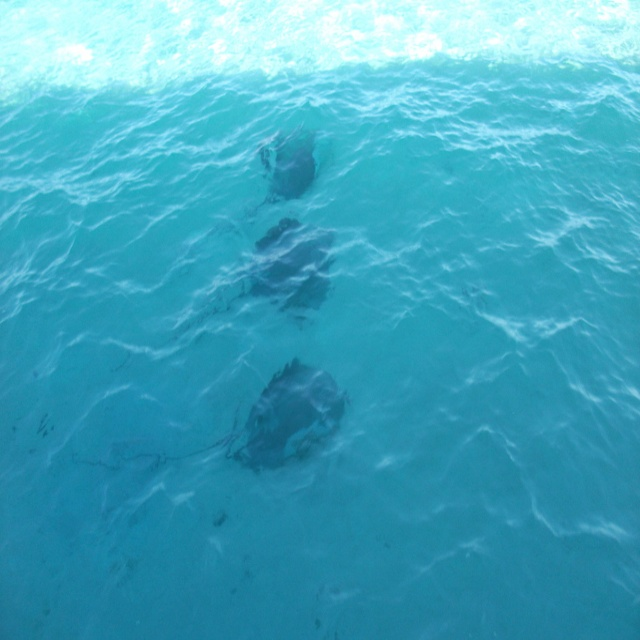Sea turtle: (231, 359, 353, 477), (236, 215, 344, 334), (256, 127, 316, 207)
